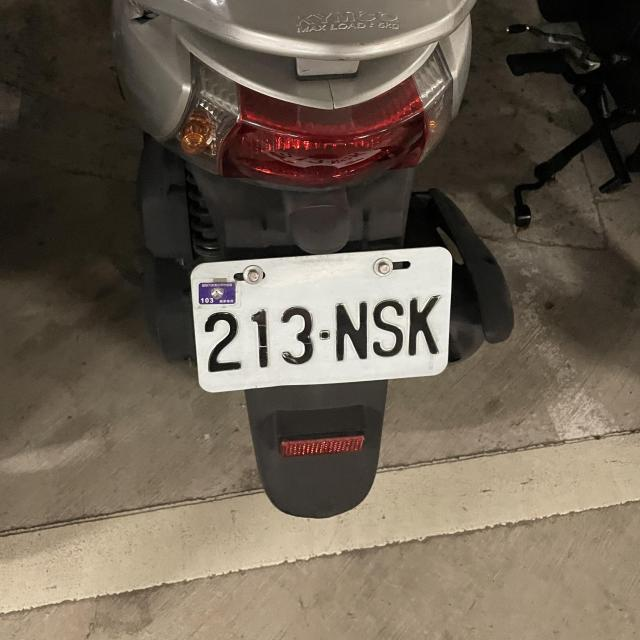W: (184, 244, 454, 394)
